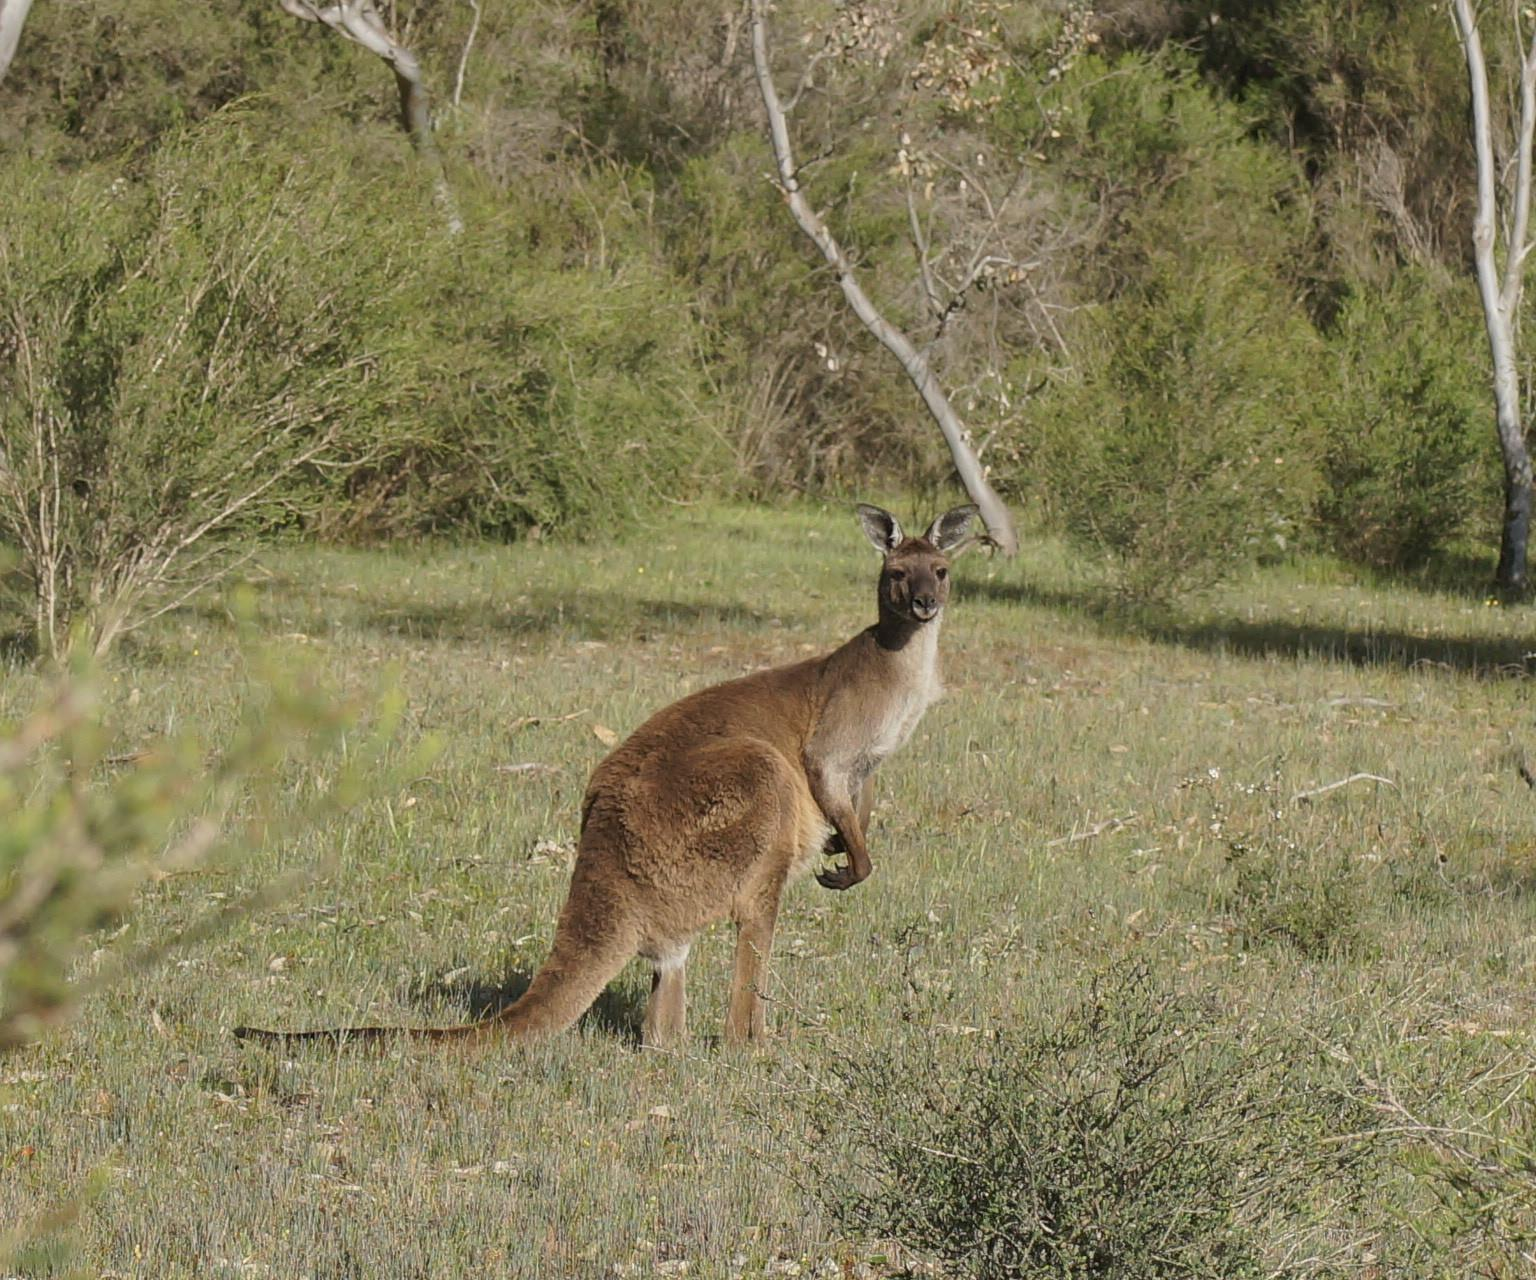Western grey kangaroo: (226, 504, 993, 1068)
